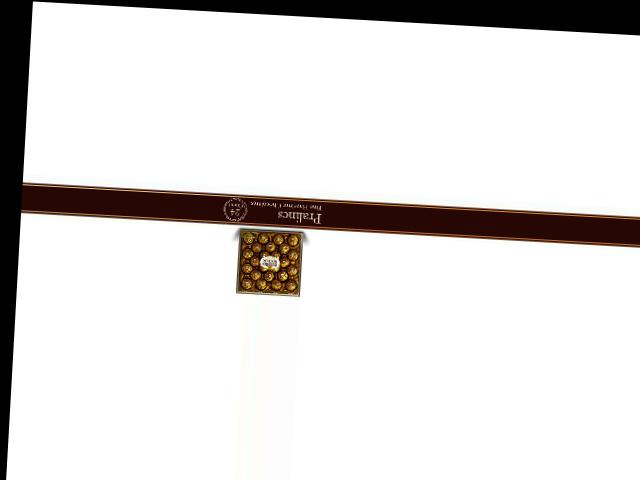chocolate: (231, 224, 306, 301)
